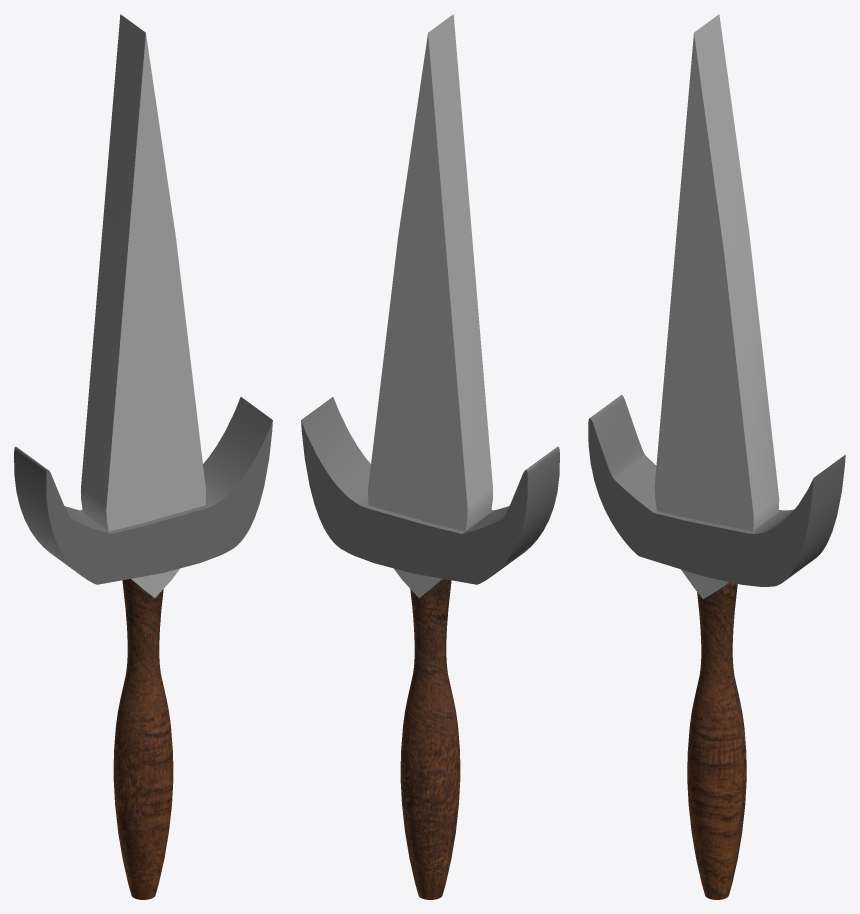
The model's file is ironSword.fbx.
The picture shows the model from 3 angles, left to right: view 1: azimuth 30°, elevation 25°; view 2: azimuth 150°, elevation 25°; view 3: azimuth 330°, elevation 25°; orthographic projection.
Visible parts, largest first — view 1: Extrude_1, Extrude, Lathe; view 2: Extrude_1, Extrude, Lathe; view 3: Extrude_1, Extrude, Lathe.
Boxes of the visible parts, <box> form: Extrude_1: <box>80,14,205,597</box>; Extrude: <box>14,397,272,584</box>; Lathe: <box>113,579,173,899</box>; Extrude_1: <box>368,14,493,597</box>; Extrude: <box>301,397,559,584</box>; Lathe: <box>400,579,460,899</box>; Extrude_1: <box>654,14,779,599</box>; Extrude: <box>588,395,845,586</box>; Lathe: <box>687,582,746,899</box>.
Bounding box in the file's own units: 61.02 × 225 × 15.
Materials: 3 (1 with a texture image).
